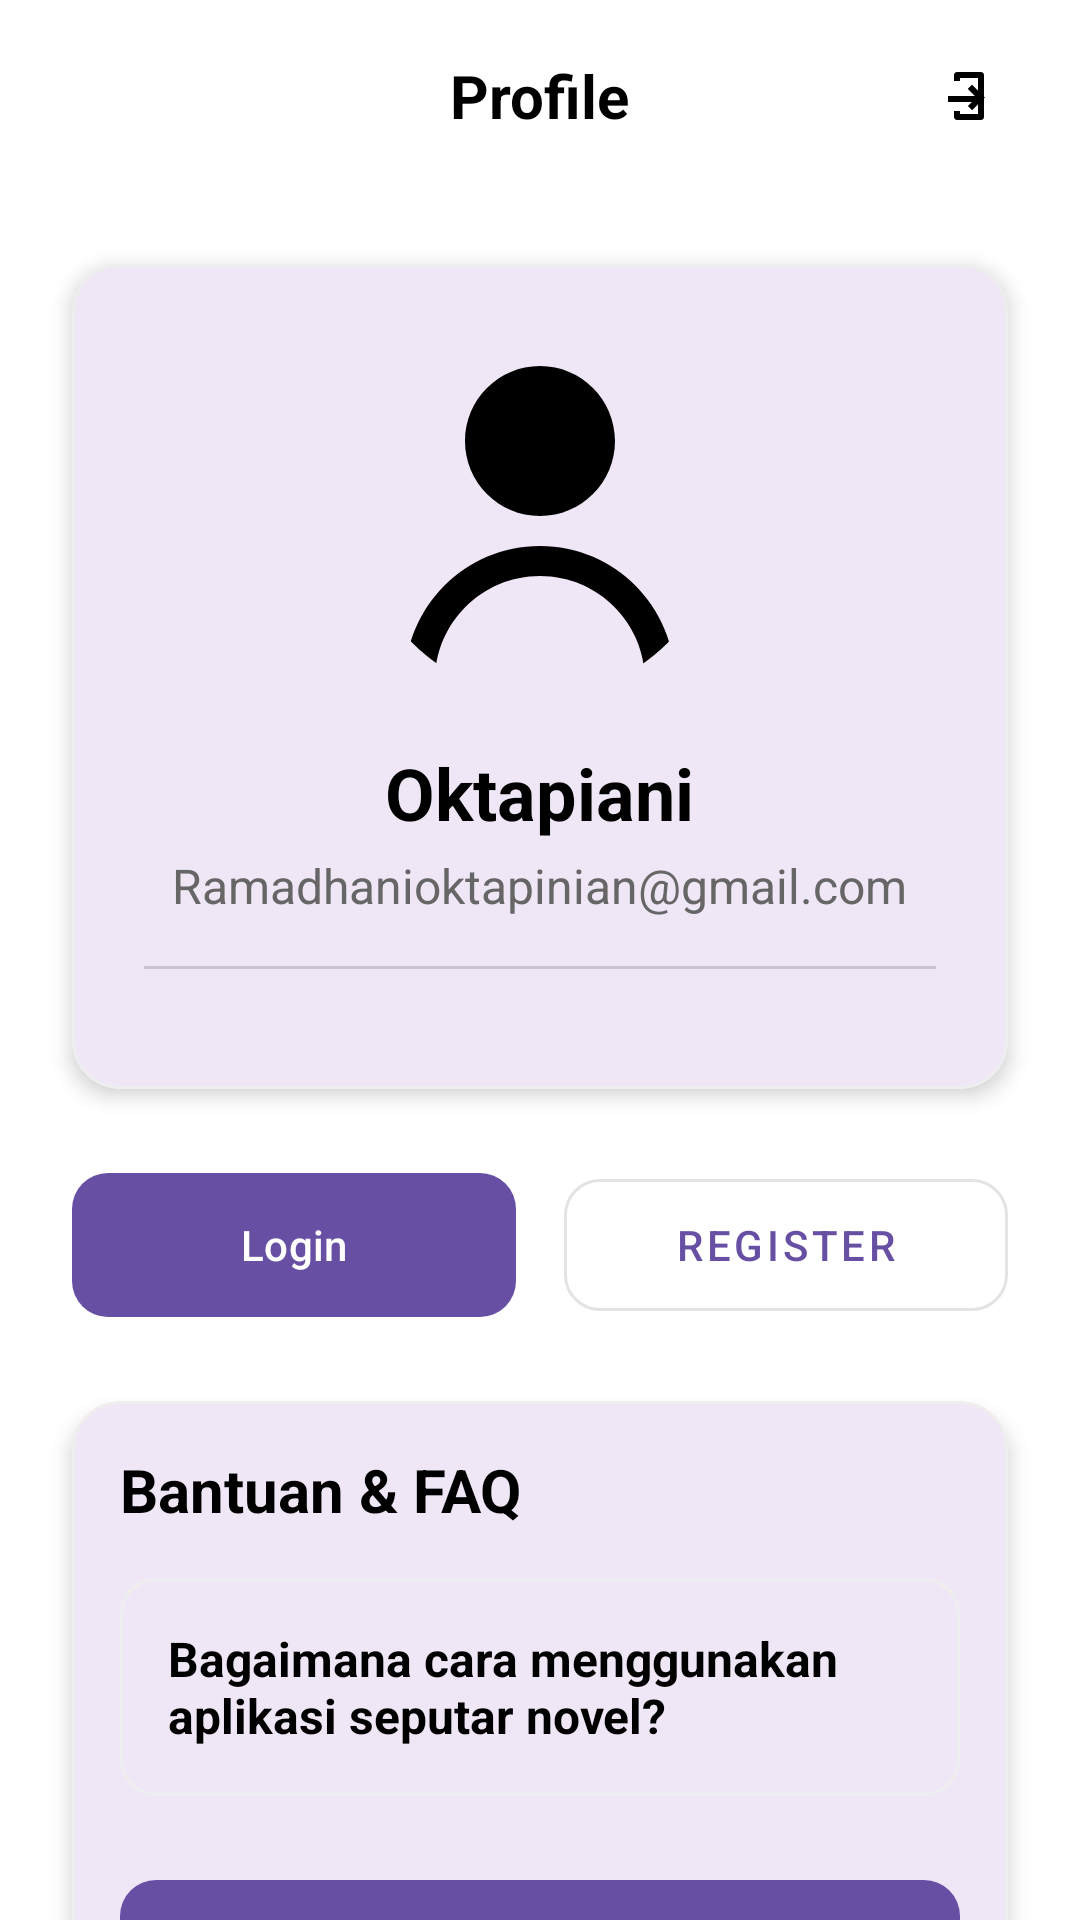

Screen size 1080w x 1920h. Icon name, then its box in pixels as bbox=[x1, y1, x2, y2]:
profile image: bbox=[411, 366, 669, 664]
